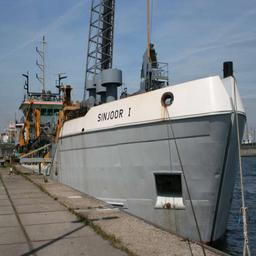Ship: (15, 70, 244, 249)
